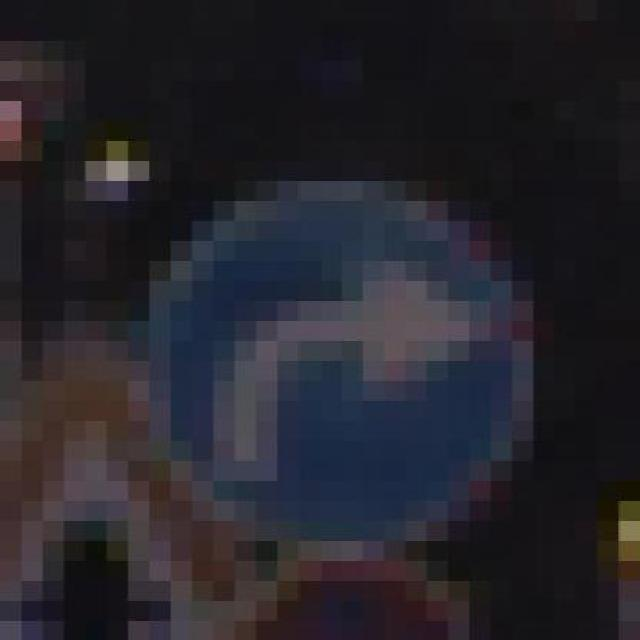Turn right ahead: (112, 186, 560, 546)
